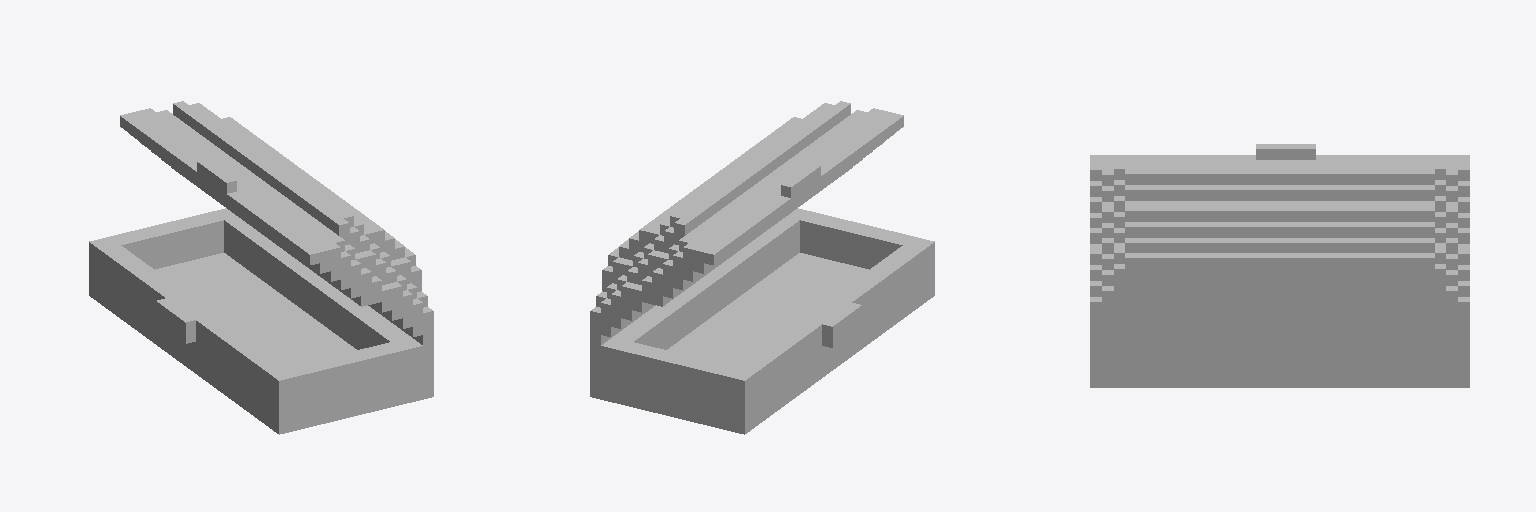
Rendered from Cofre Abierto.obj.
The picture shows the model from 3 angles: view 1: azimuth 30°, elevation 25°; view 2: azimuth 150°, elevation 25°; view 3: azimuth 270°, elevation 25°; orthographic projection.
Parts seen in each view (by area): view 1: object 1; view 2: object 1; view 3: object 1.
Boxes of the visible parts, box(x1,y1,x2,y2) form: object 1: box(89, 101, 433, 434); object 1: box(590, 101, 934, 434); object 1: box(1090, 144, 1469, 387).
Size of the model in its own units: 1.6 by 1.7 by 3.2.